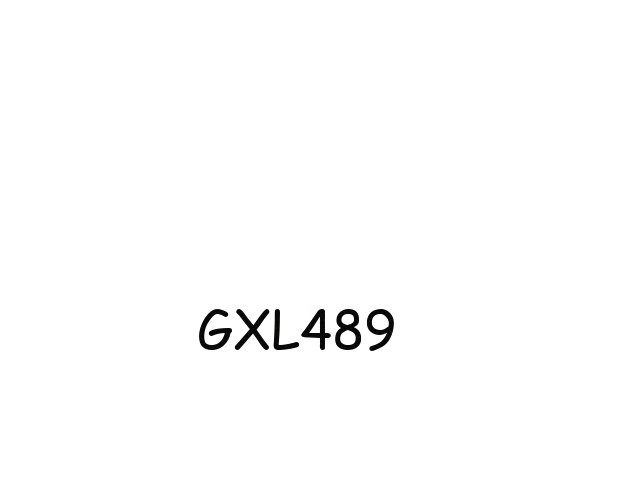OCR_AREA: (193, 304, 400, 355)
